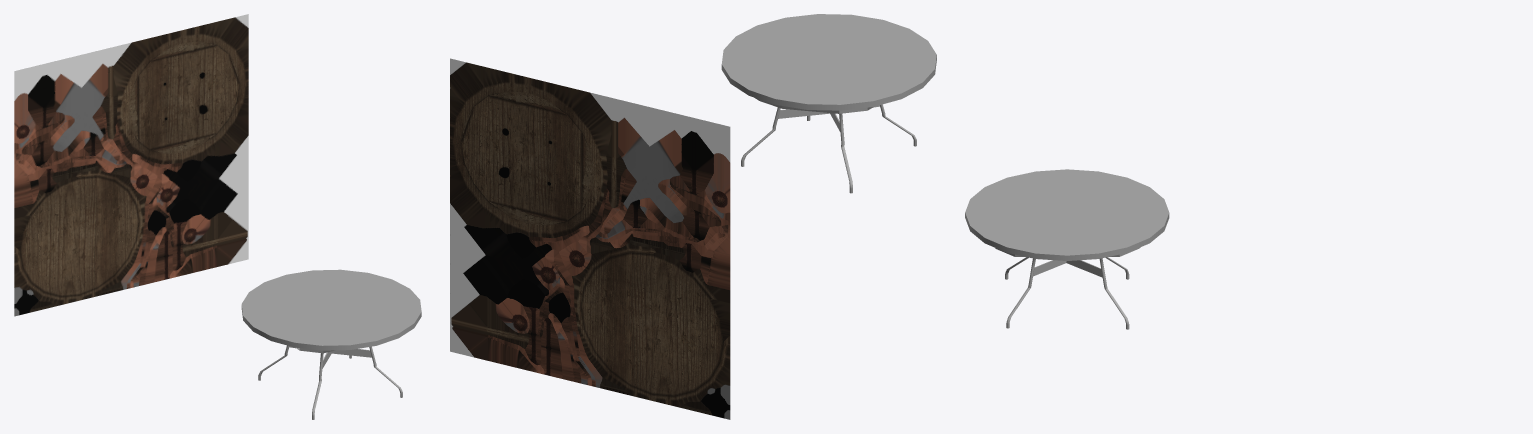
Rendered from kitchenTable.fbx.
The picture shows the model from 3 angles, left to right: view 1: azimuth 30°, elevation 25°; view 2: azimuth 150°, elevation 25°; view 3: azimuth 270°, elevation 25°; orthographic projection. The views are drawn at different scales.
Visible parts, largest first — view 1: pPlane1, pCylinder1, pasted__pCylinder2; view 2: pPlane1, pCylinder1, pasted__pCylinder2; view 3: pCylinder1, pasted__pCylinder2.
Boxes of the visible parts, left/top/right/bottom form: pPlane1: left=14, top=14, right=248, bottom=316; pCylinder1: left=241, top=269, right=421, bottom=353; pasted__pCylinder2: left=258, top=345, right=402, bottom=419; pPlane1: left=450, top=58, right=730, bottom=419; pCylinder1: left=721, top=14, right=936, bottom=113; pasted__pCylinder2: left=741, top=104, right=916, bottom=193; pCylinder1: left=965, top=169, right=1169, bottom=260; pasted__pCylinder2: left=1005, top=257, right=1129, bottom=329.
Size of the model in its own units: 13.43 by 13.43 by 24.35.
